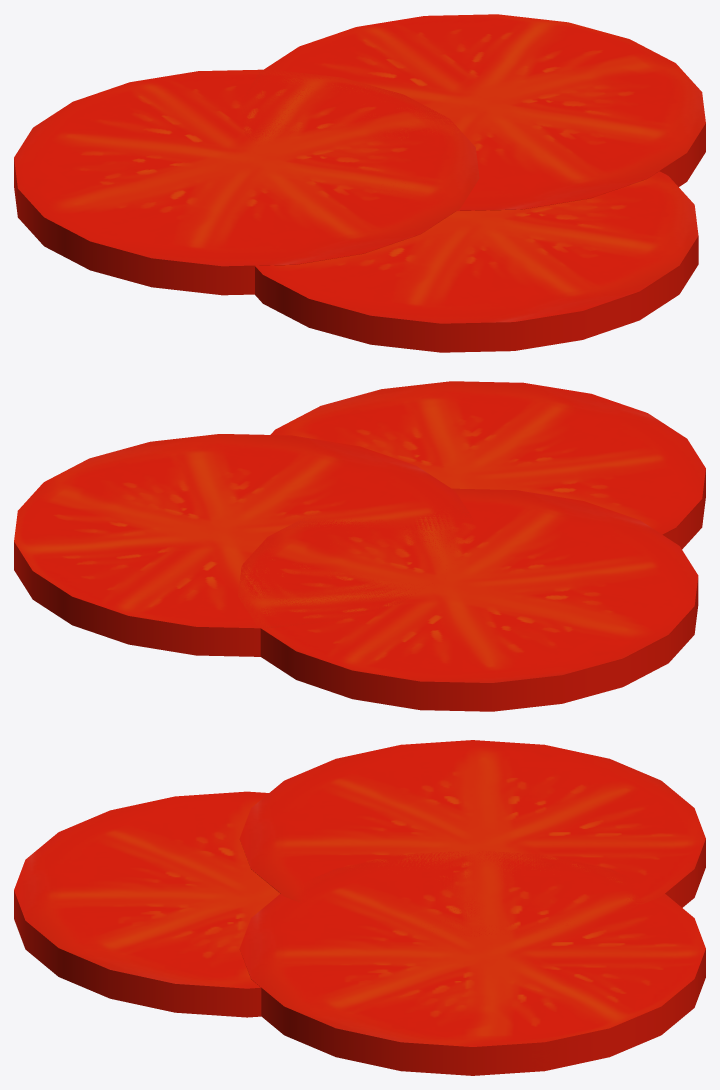
File: Tomato.obj
3 views of the same model, one above another, from view 1: azimuth 30°, elevation 25°; view 2: azimuth 150°, elevation 25°; view 3: azimuth 270°, elevation 25° (orthographic).
Visible parts, largest first — view 1: polySurface27; view 2: polySurface27; view 3: polySurface27.
Part boxes in pixels (x1,y1,x2,y2): polySurface27: (14,14,705,352); polySurface27: (14,381,705,711); polySurface27: (14,740,705,1075).
Bounding box in the file's own units: 1.82 × 0.0804 × 1.73.
3 materials, 3 textured.
